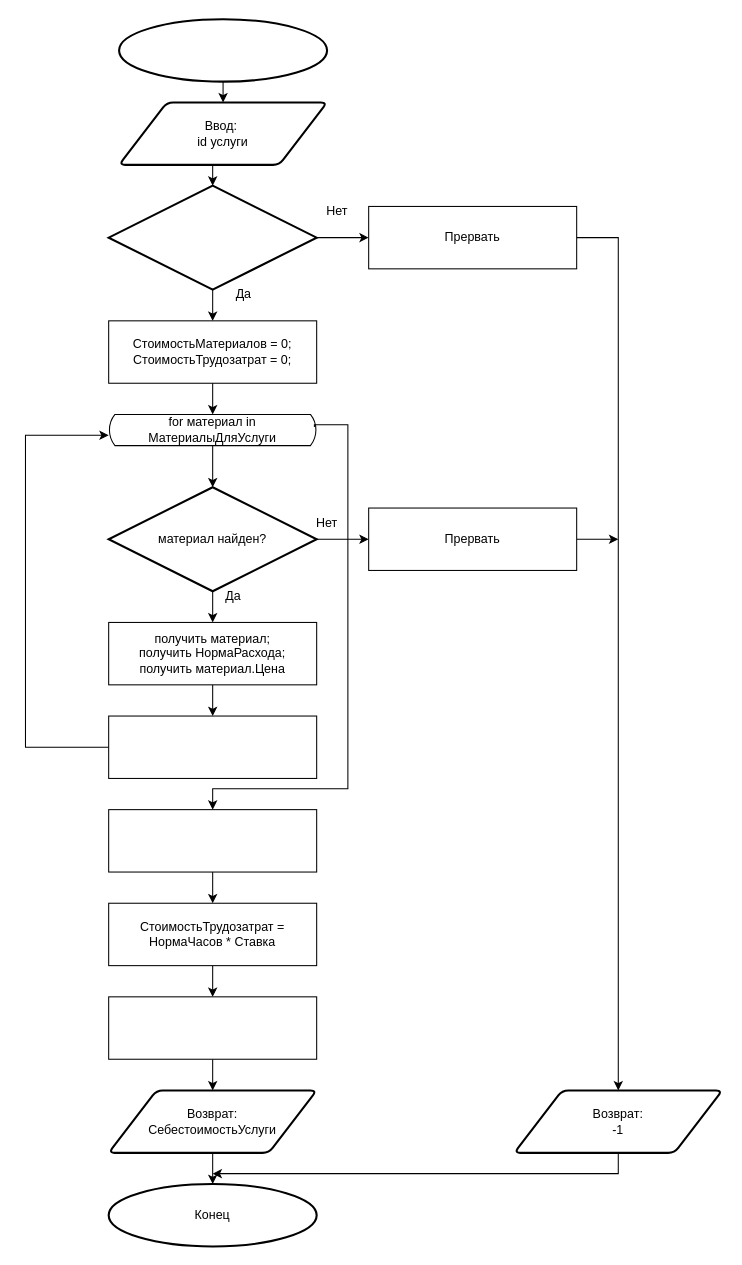
This 742x1265 diagram has some shape labels left out. The shapes that lost their labels are listed below. From the top down, each one's centre as x and y in pixels, then its label:
At pixel 223 50: "Начало".
At pixel 212 237: "Услуга найдена?".
At pixel 212 746: "СтоимостьМатериалов += НормаРасхода * материал.Цена".
At pixel 212 840: "получить СотрудникУслуги; получить СотрудникУслуги.Ставка; получить НормаЧасов;".
At pixel 212 1027: "СебестоимостьУслуги = СтоимостьТрудозатра + СтоимостьМатериалов".
